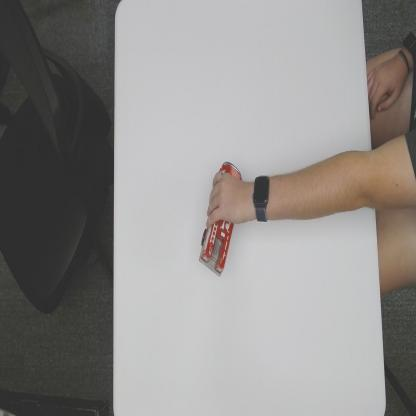Arm: (276, 127, 416, 221)
Firetruck: (198, 160, 244, 278)
Hand: (206, 168, 251, 227)
